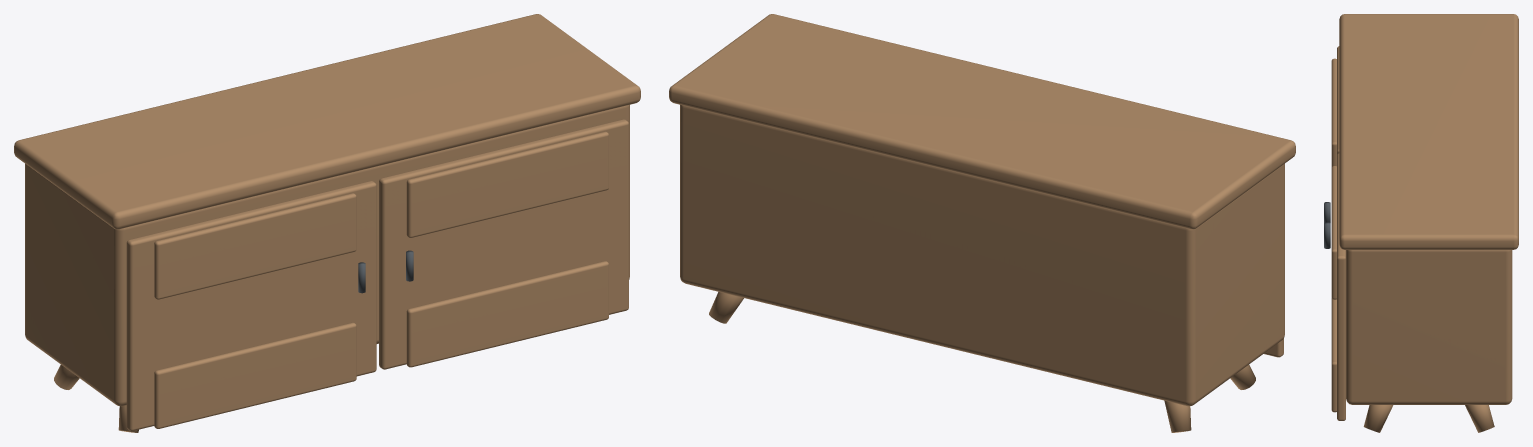
Rendered from atelier-tv-console.glb.
The picture shows the model from 3 angles, left to right: view 1: azimuth 30°, elevation 25°; view 2: azimuth 150°, elevation 25°; view 3: azimuth 270°, elevation 25°; orthographic projection. The views are drawn at different scales.
Parts seen in each view (by area): view 1: legs.090; view 2: legs.090; view 3: legs.090, metal.034.
Boxes of the visible parts, box(x1,y1,x2,y2) form: legs.090: box(14, 14, 640, 432); legs.090: box(669, 14, 1295, 432); legs.090: box(1331, 14, 1518, 432); metal.034: box(1324, 202, 1330, 248).
Bounding box in the file's own units: 1.44 × 0.6293 × 0.5265.
